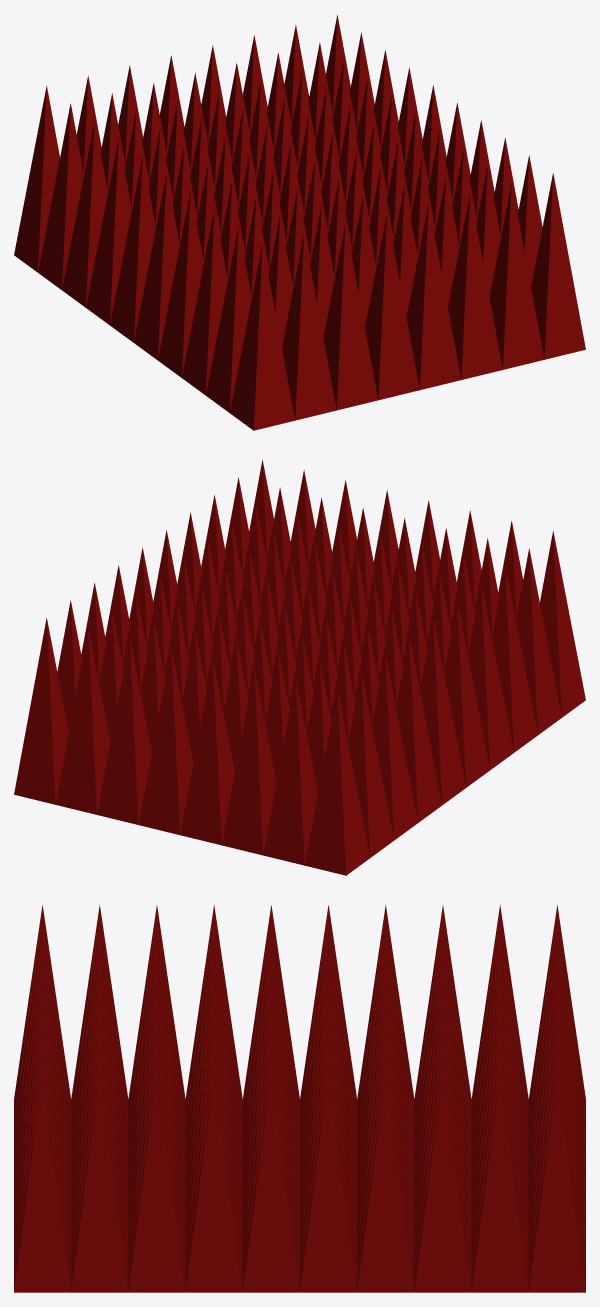
File: toge3d.fbx
The picture shows the model from 3 angles, top to bottom: view 1: azimuth 30°, elevation 25°; view 2: azimuth 150°, elevation 25°; view 3: azimuth 270°, elevation 25°; orthographic projection. The views are drawn at different scales.
Parts seen in each view (by area): view 1: 立方体.001; view 2: 立方体.001; view 3: 立方体.001.
Part boxes in pixels (x1,y1,x2,y2): 立方体.001: (14,14,585,430); 立方体.001: (14,459,585,875); 立方体.001: (14,904,585,1292).
Bounding box in the file's own units: 1600 × 800 × 2000.
